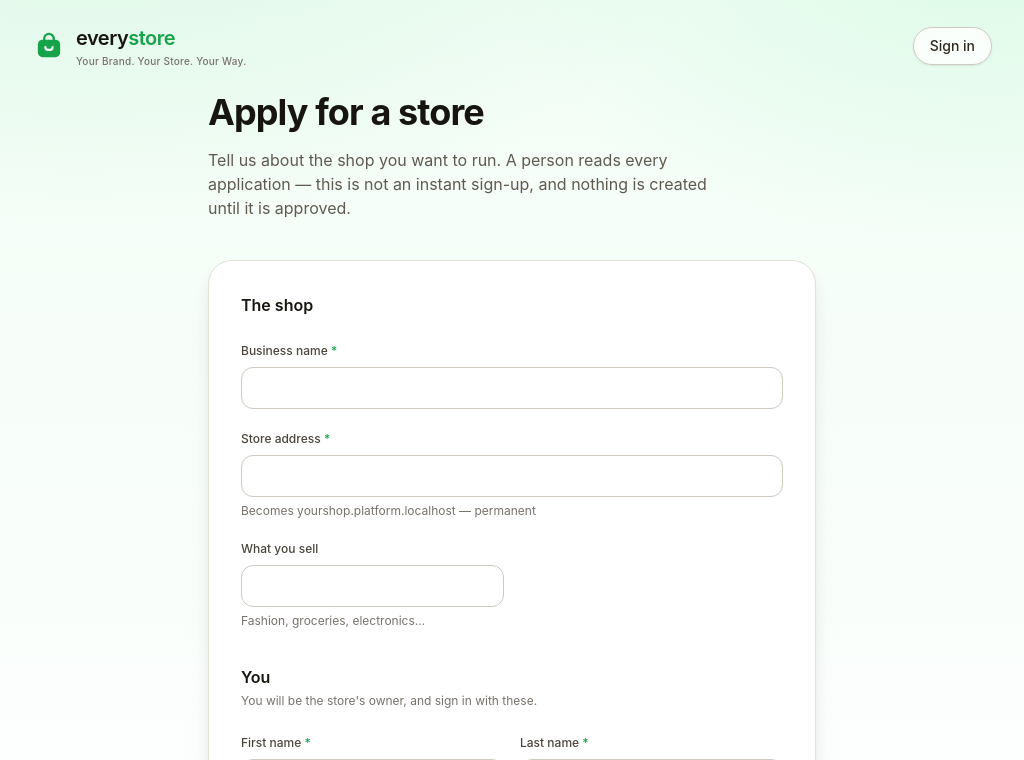
applying for a store › normalises whatever is typed into the address
Type "North Wind!! Apparel" into the field labelled "Store address".
click(512, 476); type("North Wind!! Apparel")  # box [241,455,783,497]
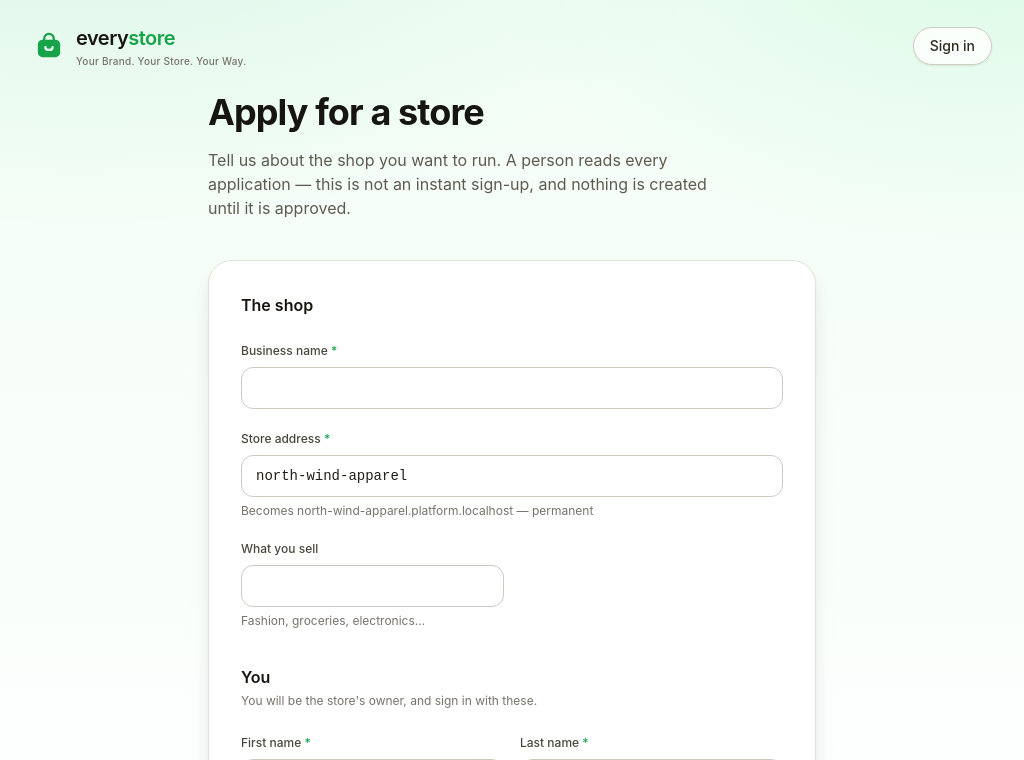
Expected: the field labelled "Store address" holds "north-wind-apparel", [241,455,783,497]
